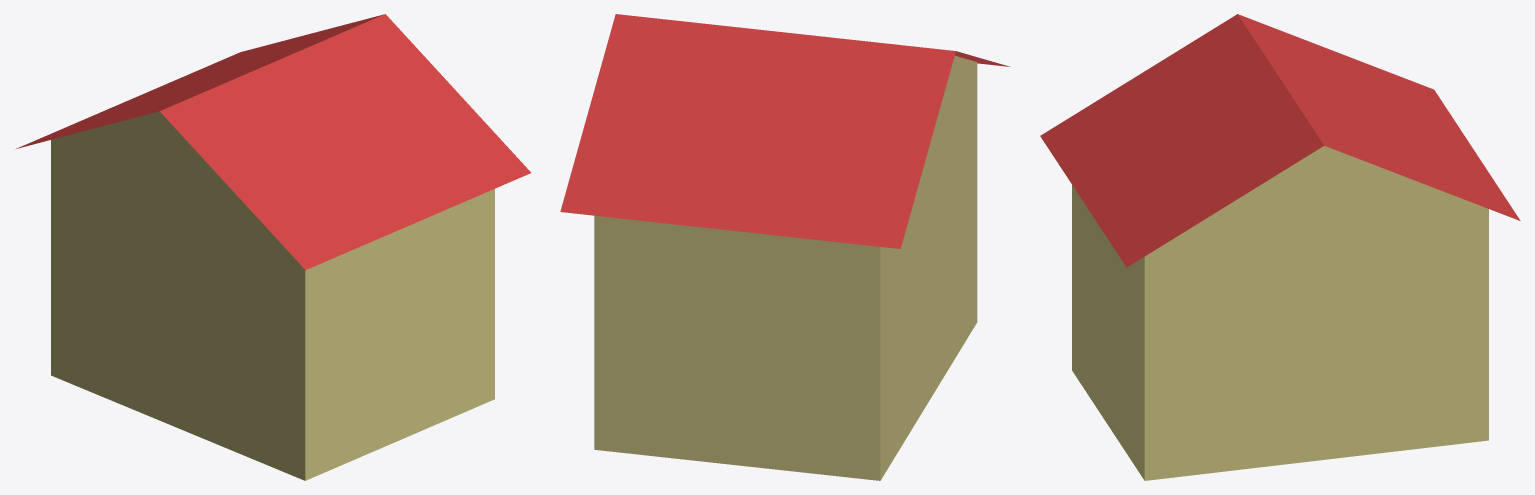
3 renders of one model, left to right at view 1: azimuth 30°, elevation 25°; view 2: azimuth 150°, elevation 25°; view 3: azimuth 270°, elevation 25°, orthographic. The views are drawn at different scales.
Bounding box in the file's own units: 12.22 × 13.95 × 10.42.
